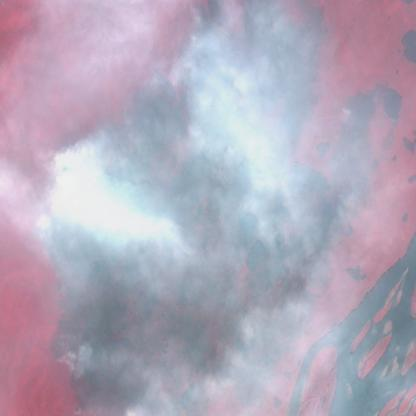fire: (26, 149, 98, 188), (182, 0, 204, 53)
